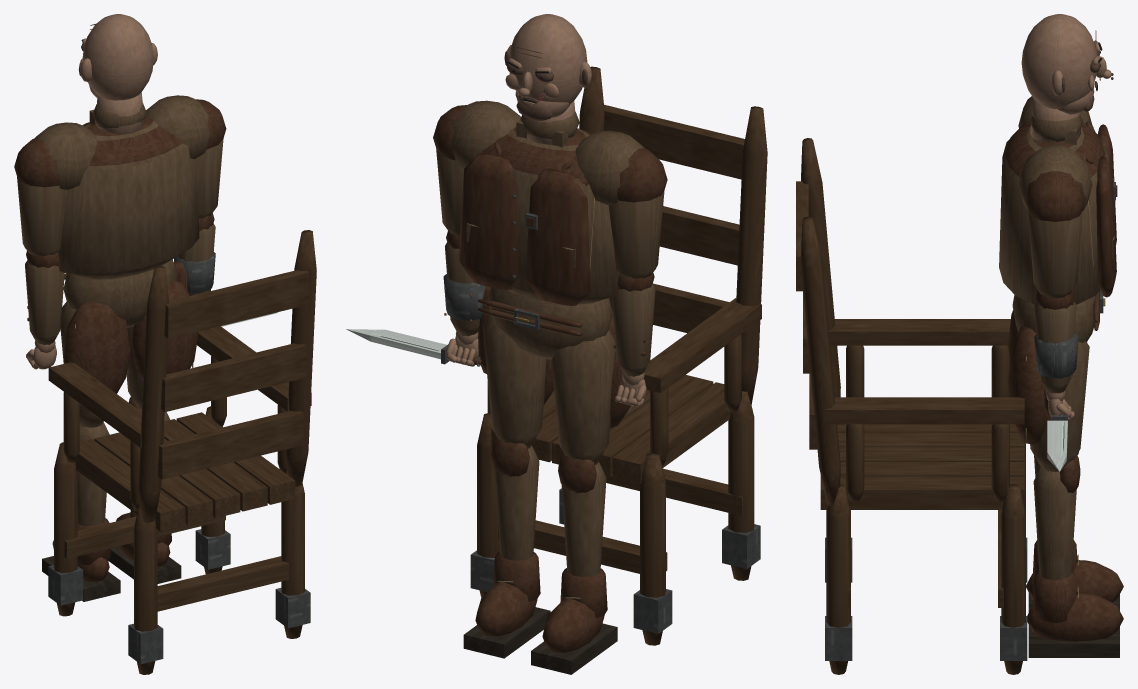
File: warden.glb
The picture shows the model from 3 angles, left to right: view 1: azimuth 30°, elevation 25°; view 2: azimuth 150°, elevation 25°; view 3: azimuth 270°, elevation 25°; orthographic projection. The views are drawn at different scales.
Visible parts, largest first — view 1: warden_chair, warden_torso, warden_head, warden_upperarm_l, warden_coat_l, warden_pelvis, warden_forearm_l, warden_upperarm_r, warden_coat_r, warden_forearm_r, warden_boot_l, warden_neck (+5 smaller); view 2: warden_chair, warden_torso, warden_head, warden_thigh_l, warden_pelvis, warden_thigh_r, warden_boot_l, warden_upperarm_l, warden_boot_r, warden_shin_r, warden_shin_l, warden_forearm_l (+7 smaller); view 3: warden_chair, warden_torso, warden_head, warden_boot_r, warden_upperarm_r, warden_shin_r, warden_forearm_r, warden_coat_r, warden_thigh_r, warden_boot_l, warden_pelvis, warden_neck (+2 smaller).
Boxes of the visible parts, x1=… form: warden_chair: x1=48, y1=230, x2=316, y2=674; warden_torso: x1=35, y1=95, x2=210, y2=279; warden_head: x1=78, y1=14, x2=157, y2=100; warden_upperarm_l: x1=14, y1=138, x2=67, y2=256; warden_coat_l: x1=63, y1=301, x2=130, y2=405; warden_pelvis: x1=63, y1=259, x2=188, y2=328; warden_forearm_l: x1=25, y1=251, x2=64, y2=344; warden_upperarm_r: x1=194, y1=99, x2=226, y2=218; warden_coat_r: x1=131, y1=280, x2=198, y2=379; warden_forearm_r: x1=174, y1=213, x2=215, y2=295; warden_boot_l: x1=42, y1=518, x2=120, y2=601; warden_neck: x1=89, y1=92, x2=146, y2=134; warden_chair: x1=470, y1=66, x2=767, y2=645; warden_torso: x1=450, y1=100, x2=644, y2=305; warden_head: x1=504, y1=14, x2=591, y2=120; warden_thigh_l: x1=551, y1=330, x2=615, y2=464; warden_pelvis: x1=477, y1=286, x2=612, y2=373; warden_thigh_r: x1=482, y1=315, x2=546, y2=448; warden_boot_l: x1=531, y1=568, x2=617, y2=674; warden_upperarm_l: x1=609, y1=147, x2=667, y2=278; warden_boot_r: x1=463, y1=551, x2=550, y2=658; warden_shin_r: x1=491, y1=437, x2=539, y2=560; warden_shin_l: x1=558, y1=453, x2=606, y2=576; warden_forearm_l: x1=611, y1=273, x2=655, y2=376; warden_chair: x1=796, y1=138, x2=1027, y2=674; warden_torso: x1=999, y1=96, x2=1117, y2=304; warden_head: x1=1021, y1=14, x2=1113, y2=114; warden_boot_r: x1=1027, y1=571, x2=1123, y2=657; warden_upperarm_r: x1=1025, y1=171, x2=1085, y2=298; warden_shin_r: x1=1033, y1=455, x2=1080, y2=580; warden_forearm_r: x1=1034, y1=289, x2=1078, y2=393; warden_coat_r: x1=1008, y1=325, x2=1048, y2=444; warden_thigh_r: x1=1030, y1=341, x2=1089, y2=471; warden_boot_l: x1=1026, y1=540, x2=1123, y2=612; warden_pelvis: x1=1012, y1=290, x2=1105, y2=419; warden_neck: x1=1030, y1=99, x2=1082, y2=144.
Bounding box in the file's own units: 0.991 × 1.87 × 0.9002.
1 material, 1 textured.
